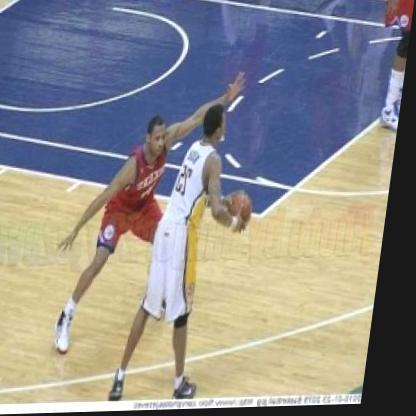basketball: (231, 191, 258, 227)
